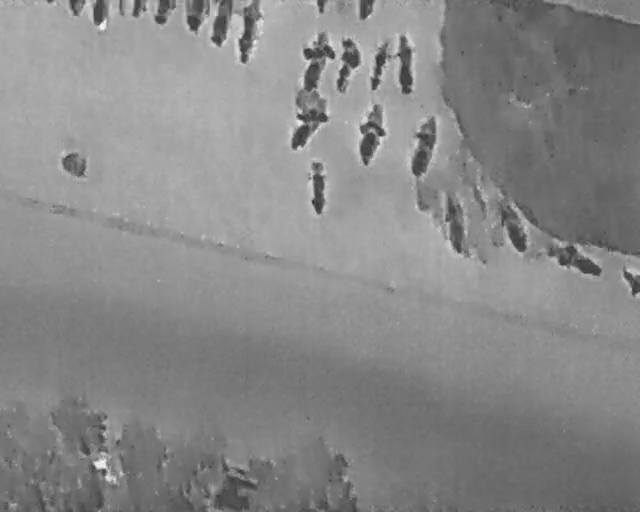Bicycle: (280, 90, 338, 159), (291, 25, 342, 96), (538, 233, 610, 281), (350, 98, 394, 168), (404, 111, 444, 181), (327, 33, 368, 97), (496, 197, 535, 257), (234, 0, 265, 65), (442, 187, 469, 257), (364, 36, 396, 94), (392, 32, 418, 96), (306, 156, 329, 216), (208, 0, 234, 49), (183, 0, 210, 34), (90, 0, 110, 32), (153, 0, 177, 26), (622, 266, 639, 297), (130, 0, 149, 19), (67, 0, 87, 18), (358, 0, 374, 22), (314, 0, 327, 16), (117, 0, 127, 17)
